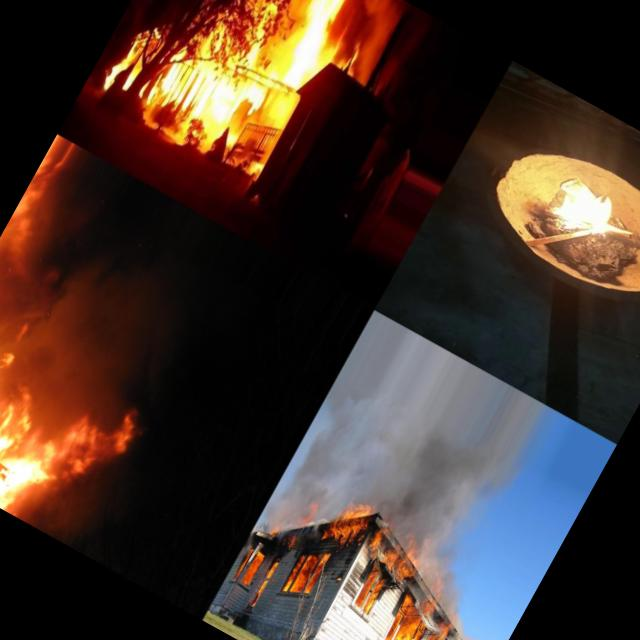fire: (0, 234, 187, 547), (531, 164, 639, 260), (269, 0, 366, 89), (356, 514, 432, 590), (374, 578, 448, 640), (90, 29, 147, 102), (316, 489, 378, 556), (280, 542, 334, 608), (321, 24, 373, 78), (230, 540, 273, 596), (246, 558, 280, 612), (350, 572, 388, 618), (403, 612, 461, 640), (296, 497, 324, 534), (278, 532, 302, 556)
smoke: (291, 384, 524, 566), (267, 460, 323, 522), (412, 542, 472, 598)
